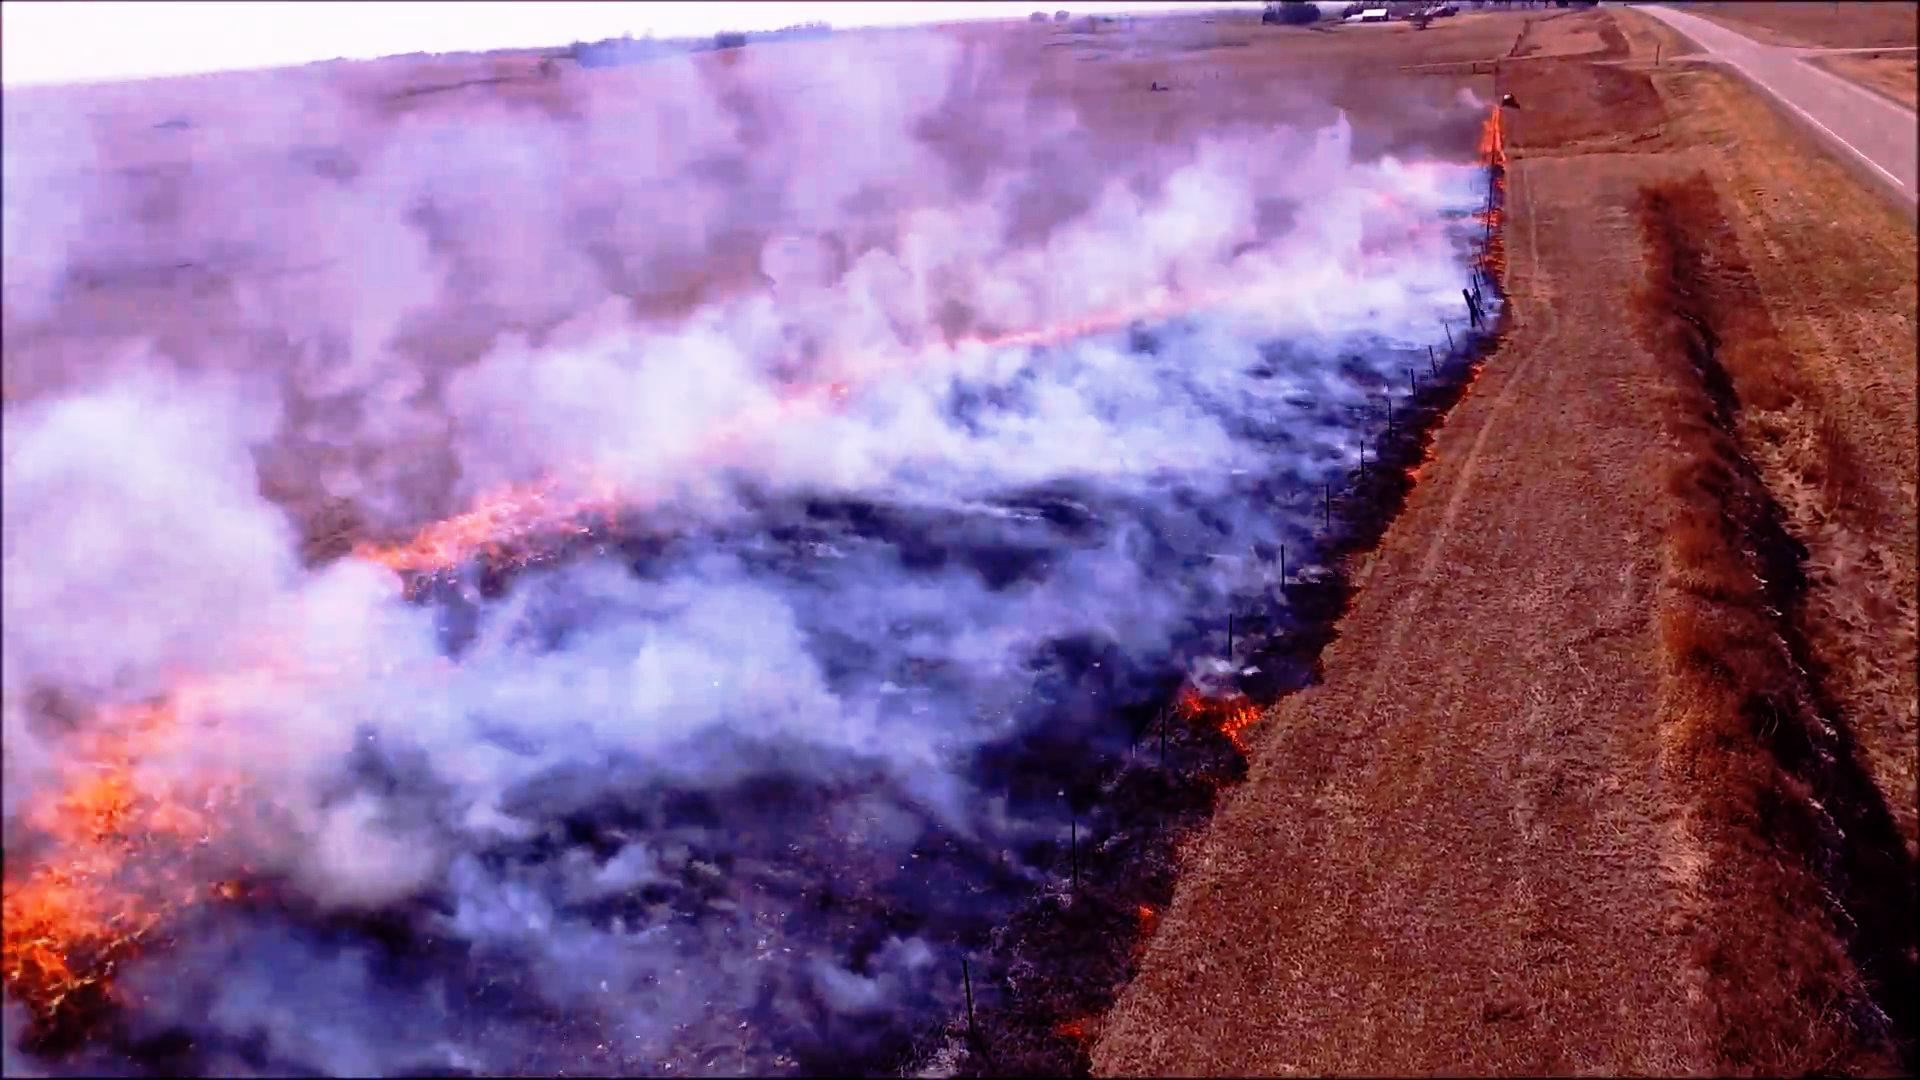fire: (5, 675, 245, 1069), (375, 465, 630, 580)
smoke: (11, 396, 1044, 1080), (5, 5, 1501, 390)
